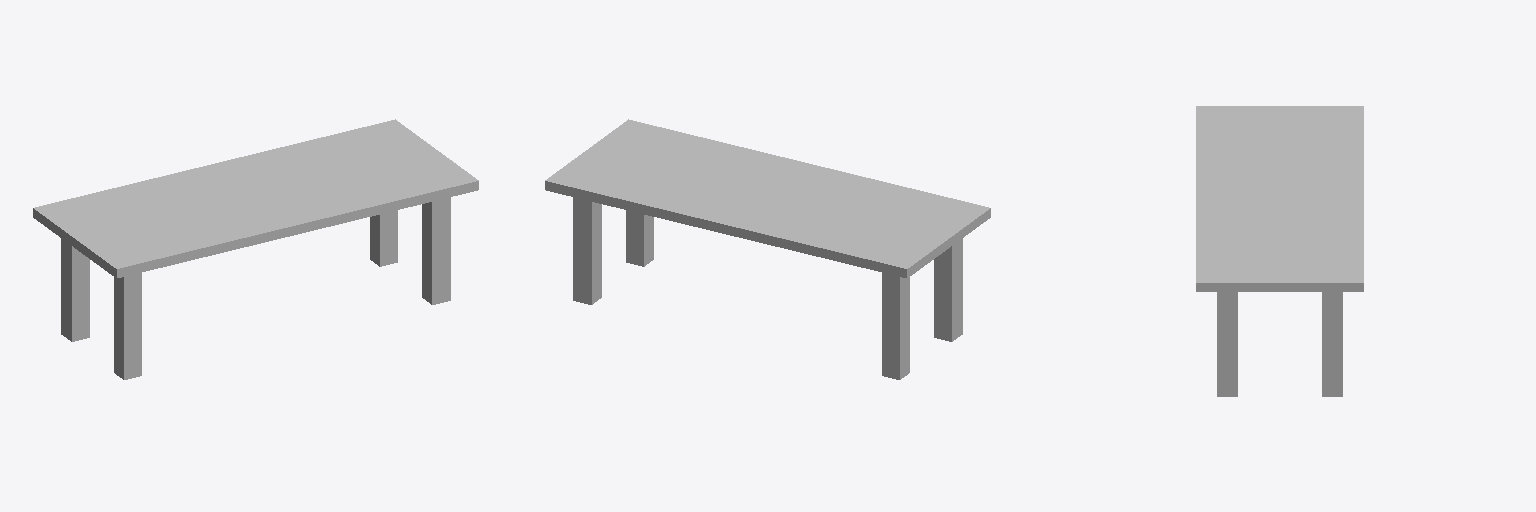
The model's file is metal_desk.obj.
3 renders of one model, left to right at view 1: azimuth 30°, elevation 25°; view 2: azimuth 150°, elevation 25°; view 3: azimuth 270°, elevation 25°, orthographic.
Visible parts, largest first — view 1: metal_desk; view 2: metal_desk; view 3: metal_desk.
Part boxes in pixels (x1,y1,x2,y2): metal_desk: (33, 119, 478, 379); metal_desk: (545, 119, 990, 379); metal_desk: (1196, 106, 1363, 396).
Bounding box in the file's own units: 200 × 65 × 80.